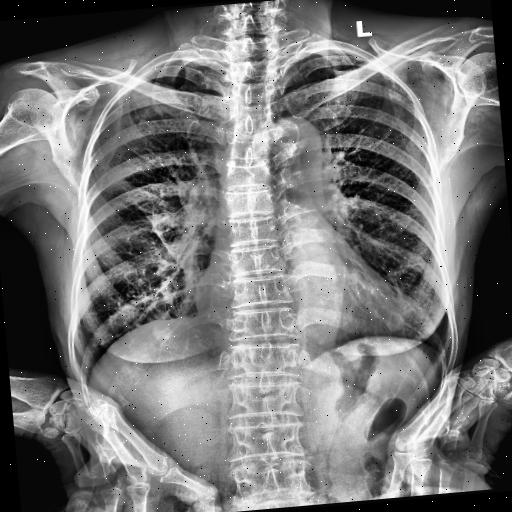0- Aortic enlargement: (250, 112, 324, 184), (258, 118, 326, 196), (260, 110, 324, 183)
13- Pulmonary fibrosis: (130, 194, 205, 292)
3- Cardiomegaly: (190, 252, 402, 349), (194, 252, 400, 350), (193, 260, 406, 354)
